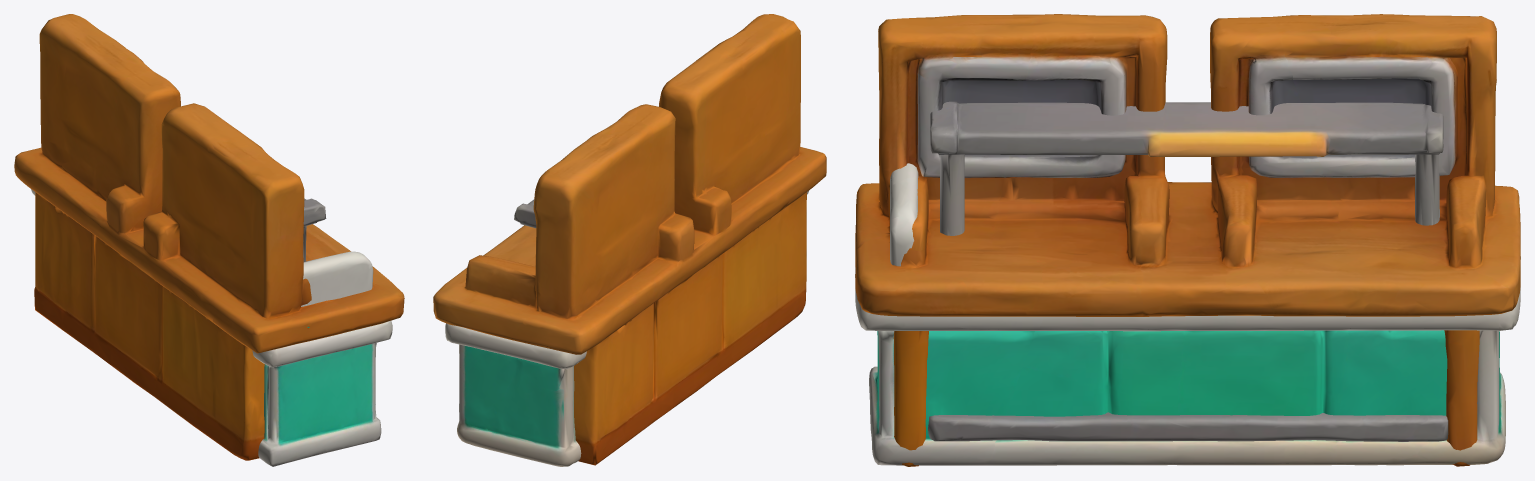
File: comptoirs.glb
3 views of the same model, side by side, from view 1: azimuth 30°, elevation 25°; view 2: azimuth 150°, elevation 25°; view 3: azimuth 270°, elevation 25° (orthographic). The views are drawn at different scales.
Visible parts, largest first — view 1: guichet-poste, comptoir-pharmacie, passe-plat-chauffant; view 2: guichet-poste, comptoir-pharmacie, passe-plat-chauffant; view 3: guichet-poste, comptoir-pharmacie, passe-plat-chauffant.
Part boxes in pixels (left/top/right/bottom): guichet-poste: left=14, top=14, right=404, bottom=460; comptoir-pharmacie: left=31, top=189, right=392, bottom=466; passe-plat-chauffant: left=303, top=198, right=326, bottom=261; guichet-poste: left=433, top=14, right=826, bottom=465; comptoir-pharmacie: left=445, top=190, right=809, bottom=466; passe-plat-chauffant: left=514, top=199, right=536, bottom=228; guichet-poste: left=855, top=14, right=1520, bottom=466; comptoir-pharmacie: left=855, top=163, right=1520, bottom=465; passe-plat-chauffant: left=928, top=101, right=1448, bottom=441.
Size of the model in its own units: 0.7529 by 1.27 by 2.
Materials: 2 (2 with a texture image).
